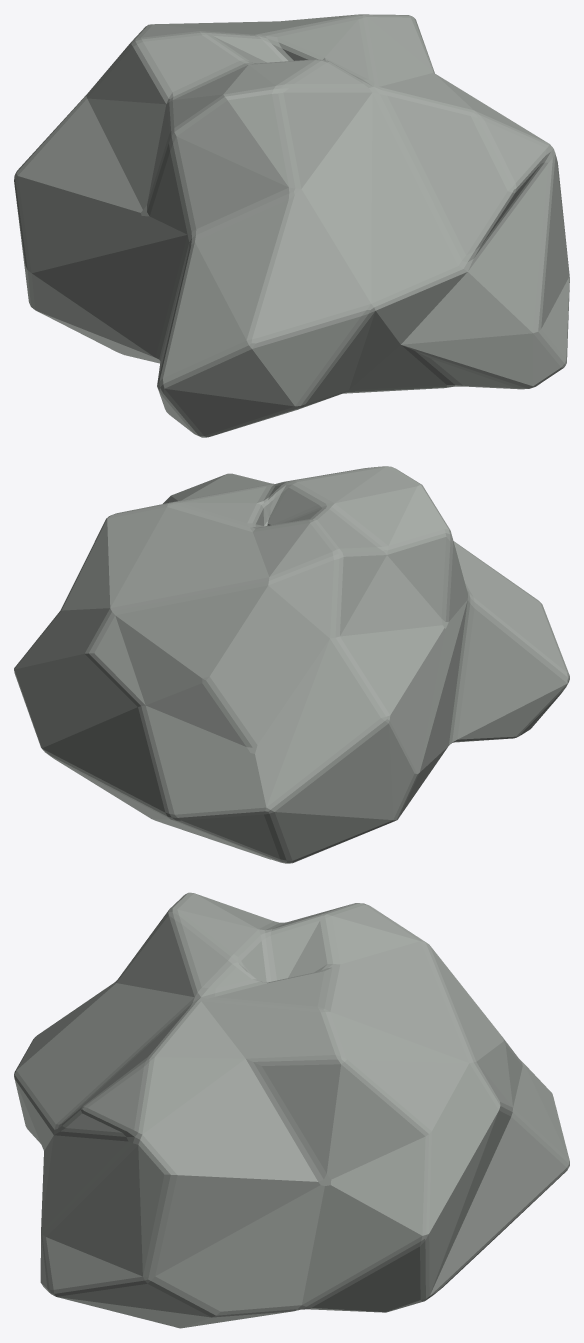
The model's file is Rocher.glb.
3 renders of one model, top to bottom at view 1: azimuth 30°, elevation 25°; view 2: azimuth 150°, elevation 25°; view 3: azimuth 270°, elevation 25°, orthographic. The views are drawn at different scales.
Visible parts, largest first — view 1: Rocher; view 2: Rocher; view 3: Rocher.
Boxes of the visible parts, x1,y1,x2,y2 form: Rocher: (14,14,569,437); Rocher: (14,466,569,863); Rocher: (14,892,569,1328).
Size of the model in its own units: 0.2903 by 0.2121 by 0.3253.
Materials: 1 (1 with a texture image).
